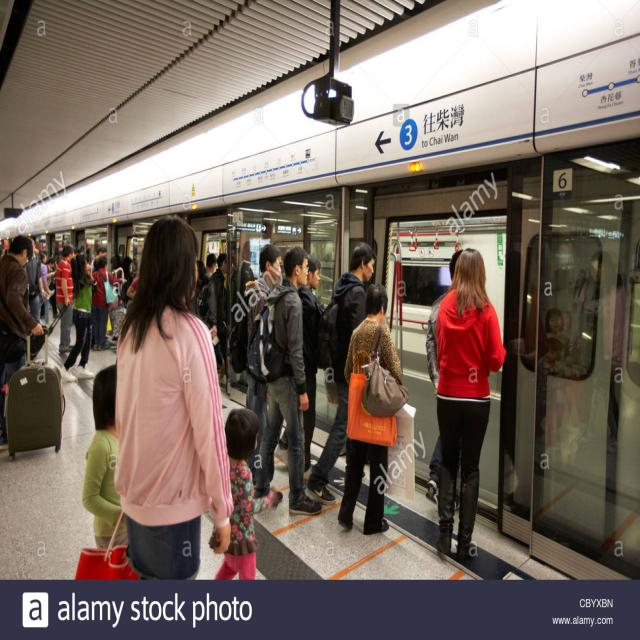body: (112, 214, 235, 584), (508, 239, 632, 494), (431, 246, 508, 564), (252, 244, 324, 518), (304, 240, 378, 506), (336, 281, 404, 537), (208, 406, 284, 581), (425, 248, 474, 512), (273, 252, 326, 483), (80, 362, 130, 548), (0, 233, 45, 439), (244, 242, 284, 473), (59, 253, 95, 382), (195, 252, 228, 380), (228, 246, 255, 390), (89, 254, 127, 351), (54, 243, 78, 355), (24, 236, 46, 322), (108, 254, 125, 340), (32, 246, 49, 324), (40, 257, 60, 320), (73, 234, 108, 258), (120, 256, 134, 308), (195, 259, 209, 299), (203, 252, 218, 280), (22, 280, 32, 310), (0, 240, 8, 260)
